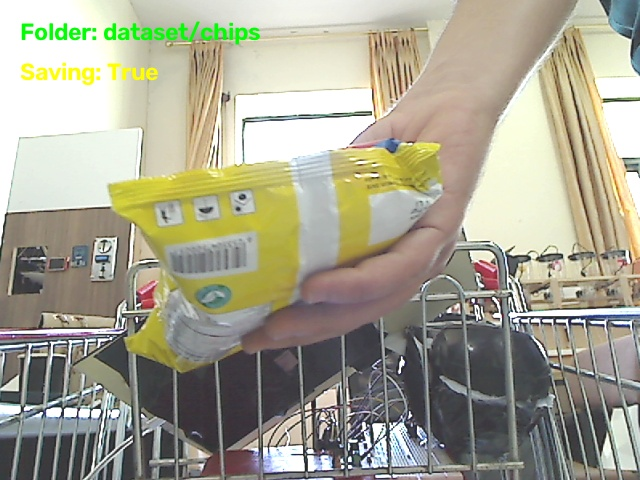chips: (109, 140, 441, 371)
